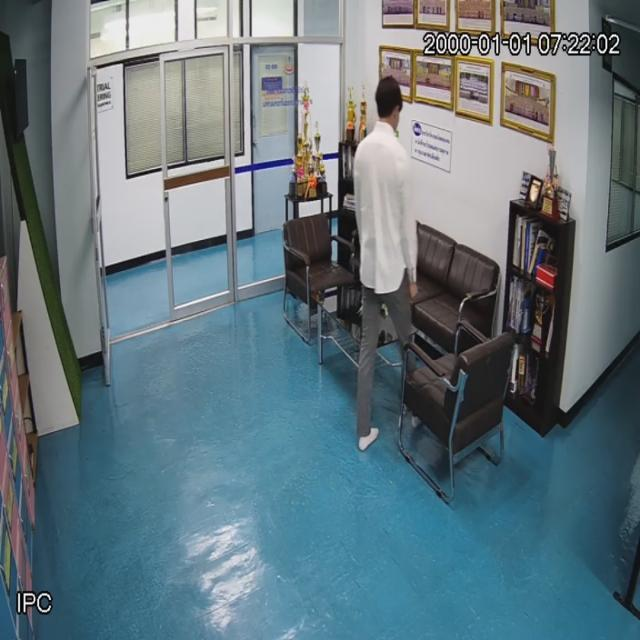normal: (356, 74, 416, 443)
